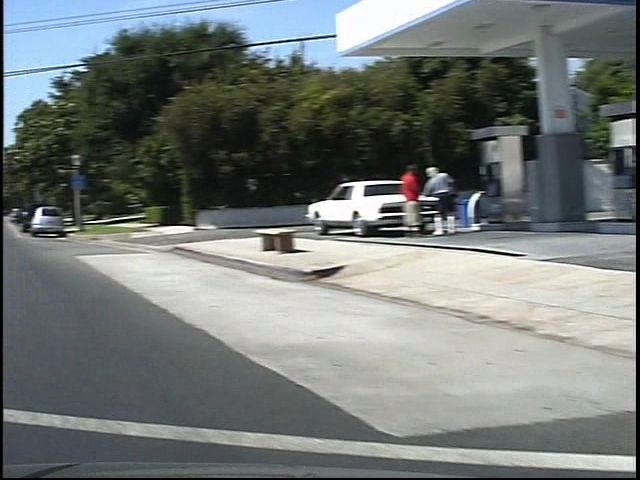person: (405, 164, 446, 242), (378, 159, 410, 242)
